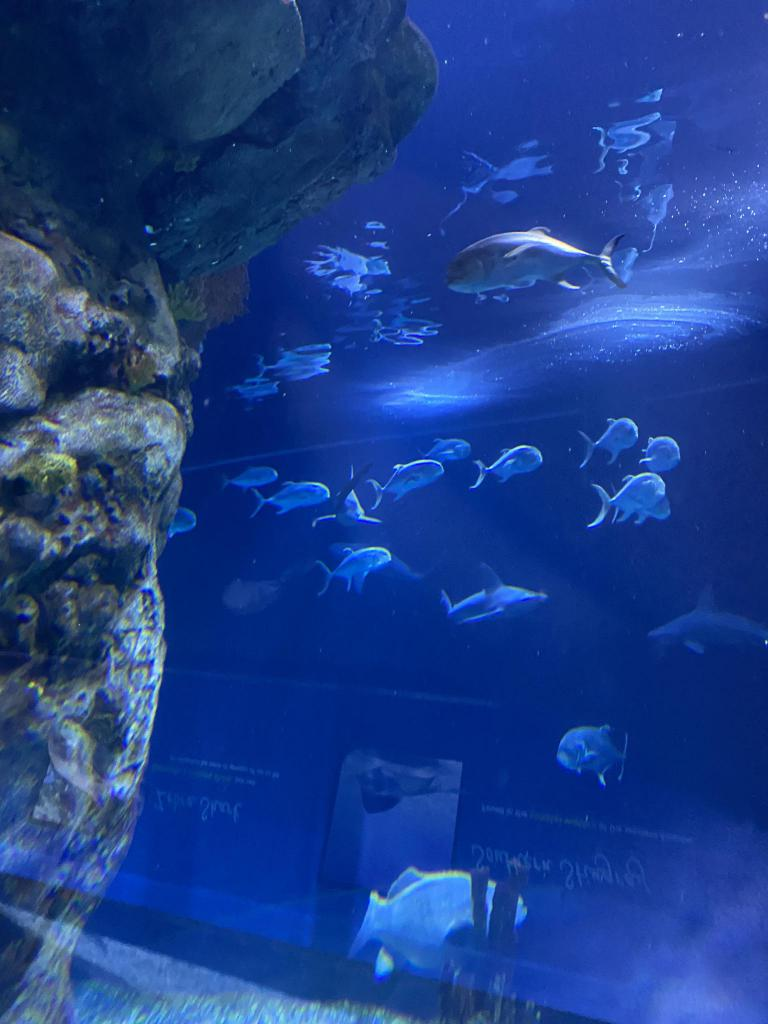fish: (348, 866, 528, 978), (448, 222, 624, 294), (586, 474, 670, 526), (557, 723, 627, 785), (314, 546, 390, 596), (368, 461, 442, 509), (470, 445, 542, 487), (578, 417, 638, 467), (251, 480, 331, 516), (220, 464, 278, 490), (638, 436, 678, 470), (158, 508, 198, 536), (420, 438, 470, 460)
shark: (648, 582, 768, 652), (440, 562, 546, 624), (312, 460, 382, 528), (330, 540, 440, 582)
